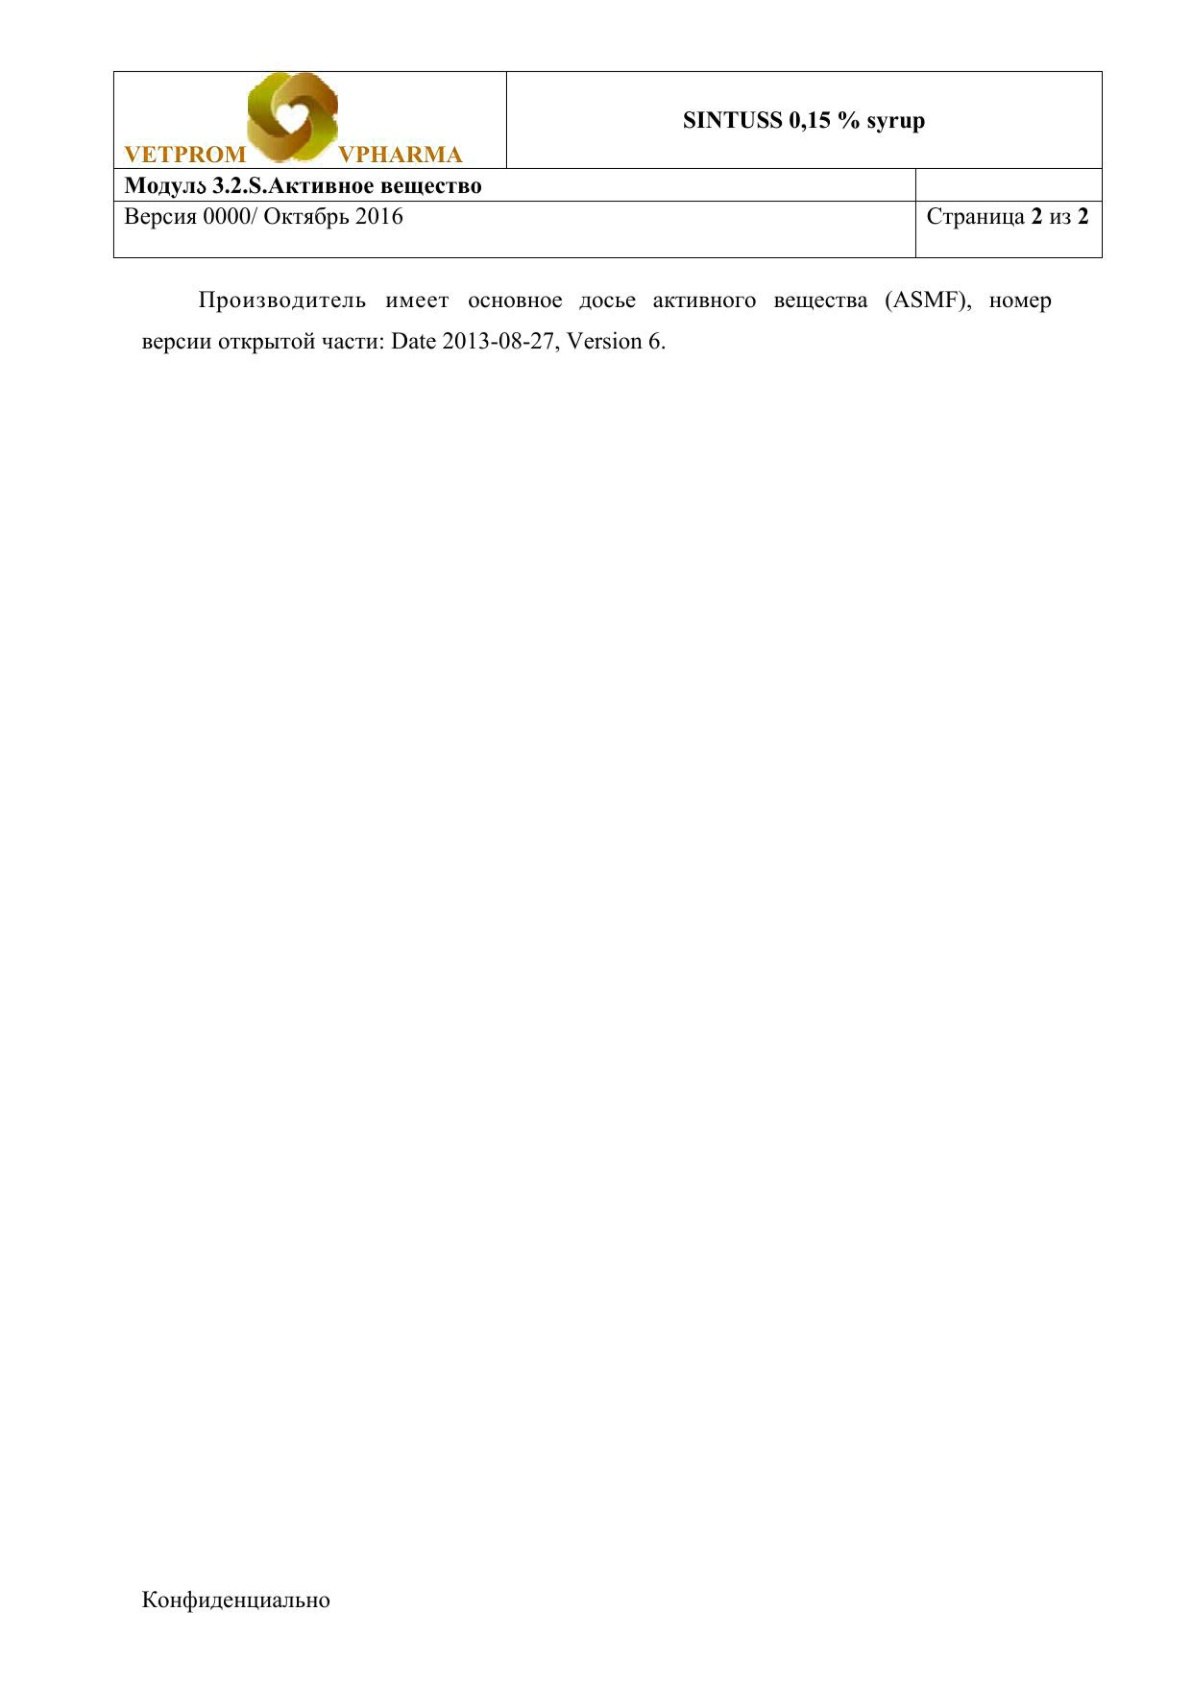merged_cells: (111, 68, 1103, 261)
